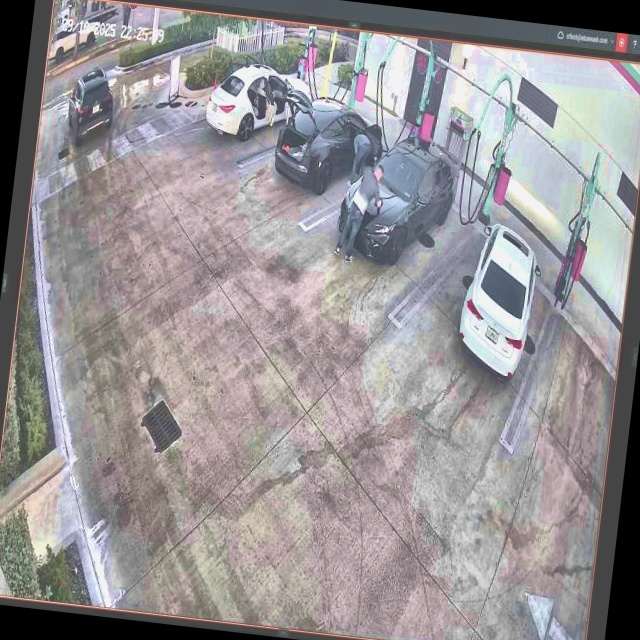Car: (335, 134, 462, 274), (460, 207, 541, 384), (274, 93, 385, 208), (200, 58, 314, 152)
